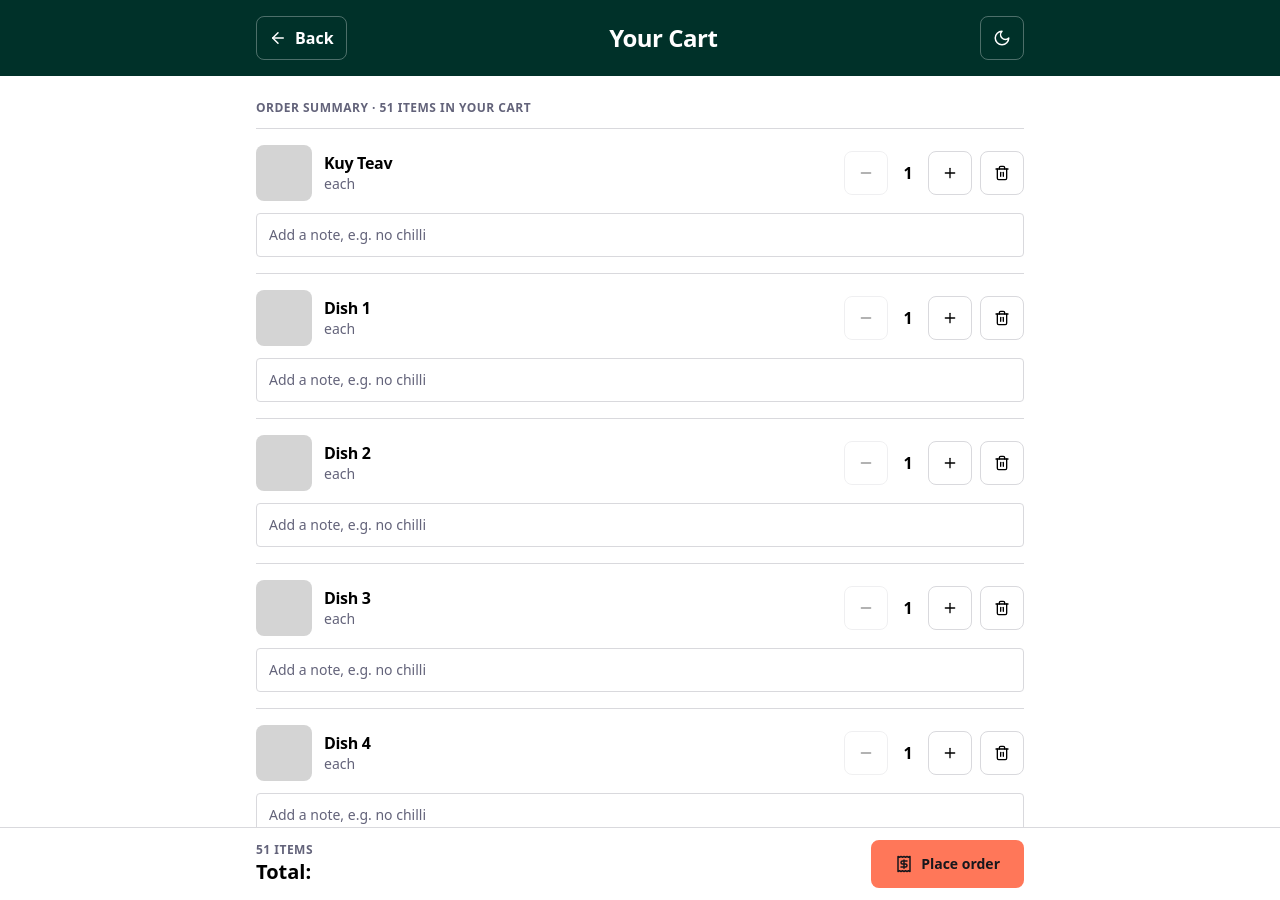
order errors › more than 50 different dishes (VM-22): says so and sends nothing
Check: the heading "Kuy Teav" is shown, box [324,152,392,174]
What coordinates should you click on to do the following:
click the button "Place order"
I would click on:
 (948, 864)
Its box is [871,840,1024,888].
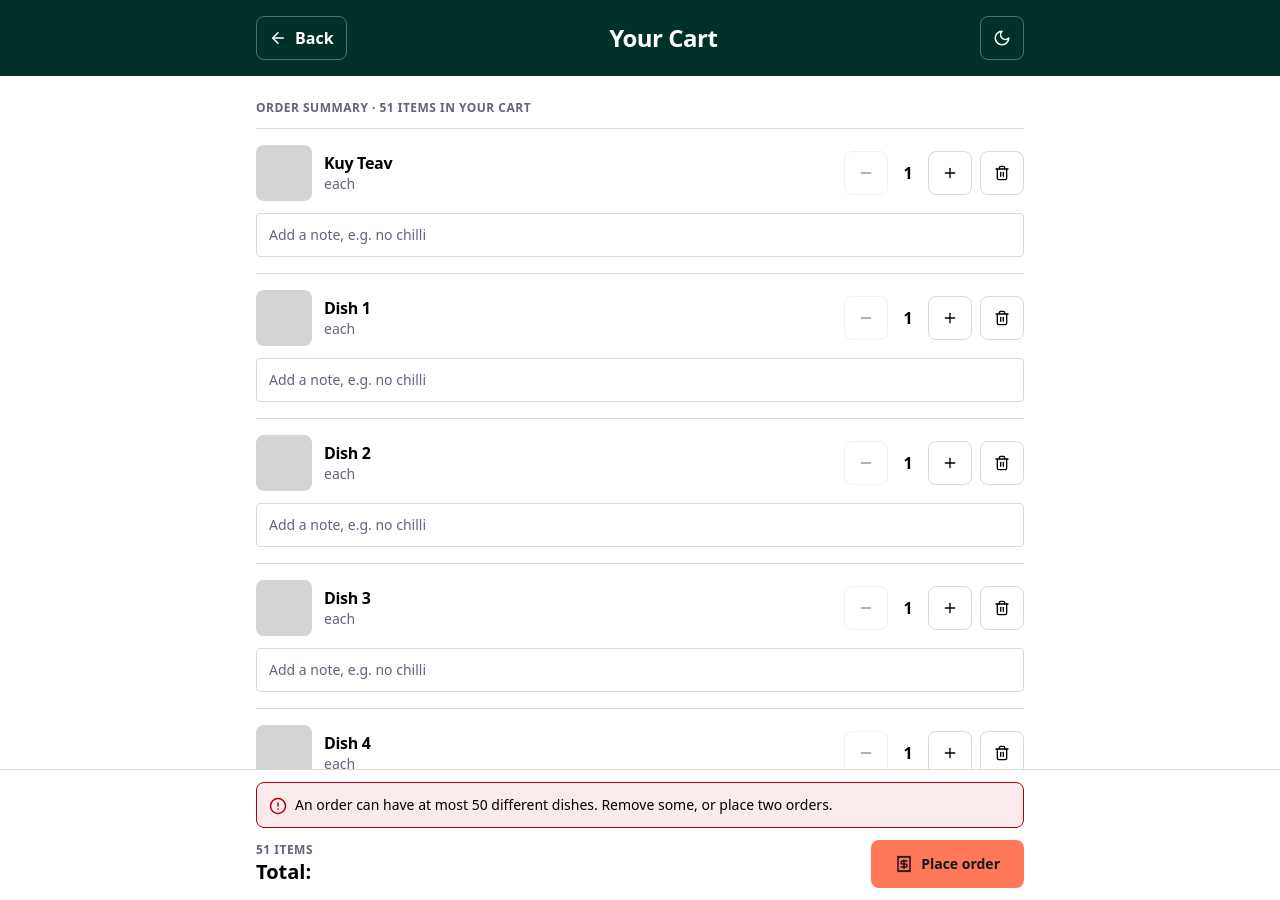
Check: the message shows "at most 50 different dishes", box [295,795,833,814]
